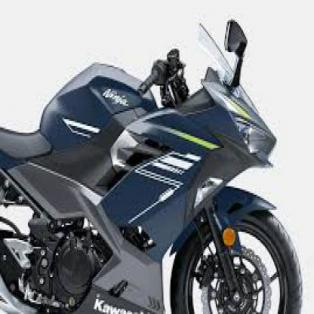Motocicleta: (1, 13, 306, 311)
